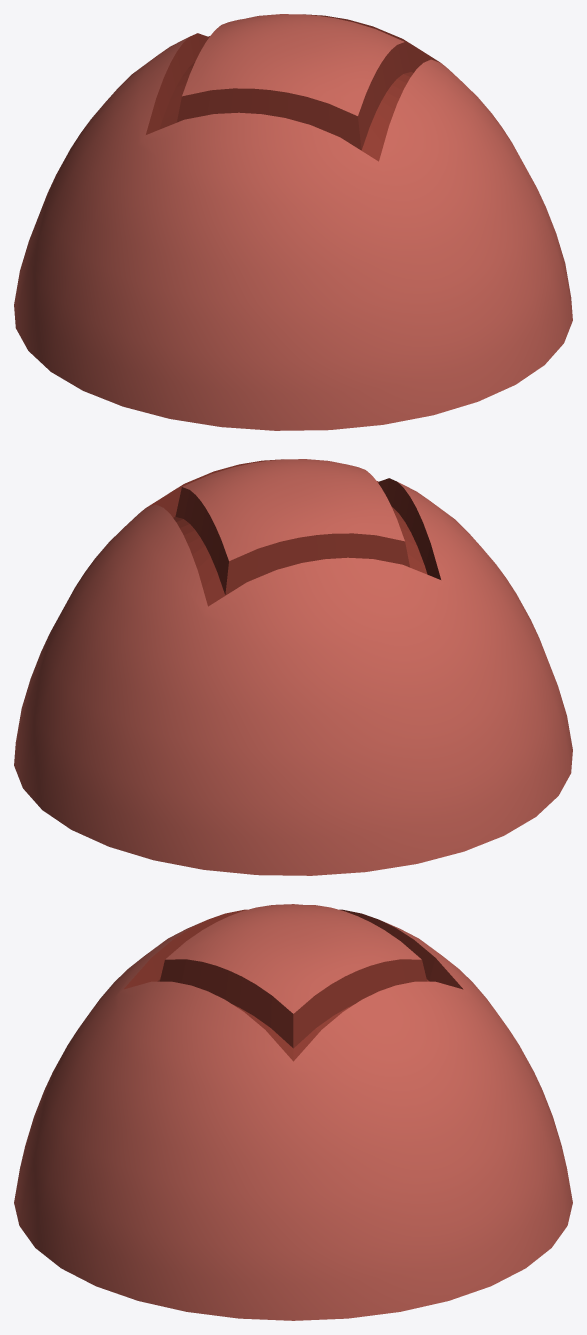
Rendered from newshv-123.glb.
The picture shows the model from 3 angles, top to bottom: view 1: azimuth 30°, elevation 25°; view 2: azimuth 150°, elevation 25°; view 3: azimuth 270°, elevation 25°; orthographic projection.
Parts seen in each view (by area): view 1: newshv-123, newshv-123_groove; view 2: newshv-123, newshv-123_groove; view 3: newshv-123, newshv-123_groove.
Boxes of the visible parts, box(x1,y1,x2,y2) form: newshv-123: box(14, 14, 572, 430); newshv-123_groove: box(146, 14, 440, 161); newshv-123: box(14, 459, 572, 875); newshv-123_groove: box(146, 459, 440, 606); newshv-123: box(14, 904, 572, 1320); newshv-123_groove: box(123, 909, 463, 1061).
Size of the model in its own units: 1.56 by 0.8333 by 1.56.
